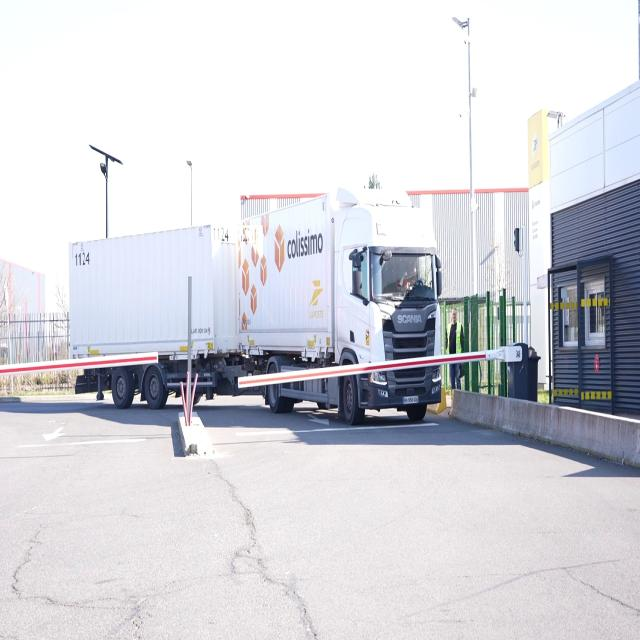Code: (70, 244, 98, 272), (209, 220, 233, 249)
